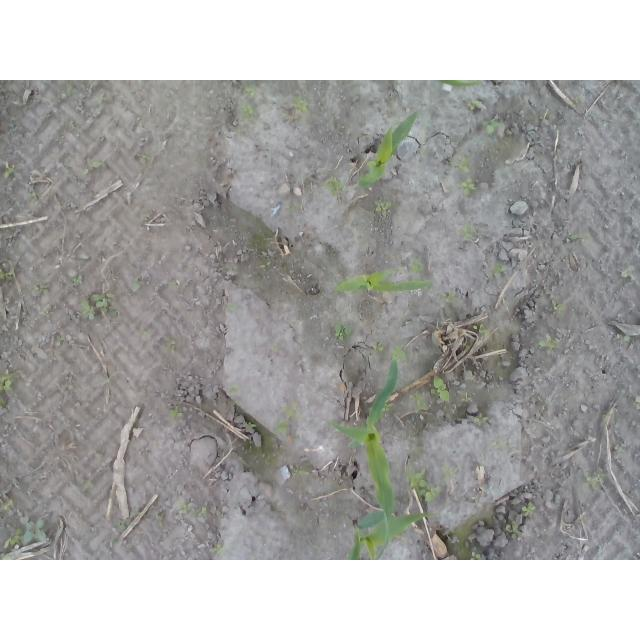Maize: (330, 350, 403, 560), (358, 109, 418, 188), (346, 508, 430, 560), (336, 268, 433, 294), (433, 80, 479, 89)
Weeds: (406, 470, 440, 503), (80, 294, 112, 322), (21, 516, 48, 544), (0, 368, 16, 410), (431, 374, 449, 401), (408, 390, 428, 411), (4, 528, 24, 548), (325, 175, 346, 193), (535, 336, 557, 353), (291, 94, 310, 113), (450, 160, 473, 175), (239, 103, 257, 122), (374, 199, 392, 217), (485, 119, 504, 136), (473, 323, 494, 337), (584, 471, 600, 489), (408, 255, 424, 272), (463, 177, 478, 195), (173, 500, 191, 515), (335, 322, 353, 337), (441, 464, 456, 481), (274, 418, 288, 435), (1, 497, 16, 512), (1, 162, 15, 178), (292, 465, 312, 476), (552, 299, 567, 313), (66, 80, 78, 97), (522, 503, 535, 518), (505, 522, 520, 535), (467, 100, 483, 112), (192, 505, 208, 517), (473, 412, 488, 424), (396, 345, 408, 360), (491, 440, 510, 449), (463, 224, 473, 241), (210, 544, 225, 555), (40, 309, 54, 320), (168, 407, 185, 416), (32, 284, 49, 293), (228, 383, 238, 398), (96, 95, 112, 104), (244, 87, 257, 98), (257, 260, 272, 269), (71, 272, 82, 284), (0, 268, 12, 279), (566, 231, 577, 242), (286, 407, 298, 417), (225, 303, 237, 313), (460, 392, 472, 402), (91, 160, 104, 169), (373, 342, 383, 353), (446, 291, 457, 301), (631, 398, 640, 410), (131, 279, 141, 289), (463, 127, 473, 137), (117, 520, 128, 529), (453, 535, 464, 544), (26, 192, 38, 200), (382, 404, 392, 413), (470, 552, 480, 561), (623, 336, 633, 345), (496, 263, 504, 273), (245, 422, 256, 429), (424, 120, 432, 129), (1, 552, 8, 560), (15, 201, 21, 209), (264, 237, 273, 241)
